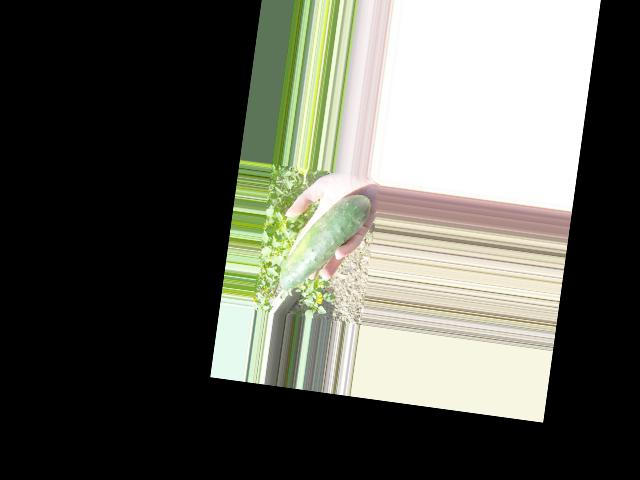cucumber: (278, 186, 371, 299)
